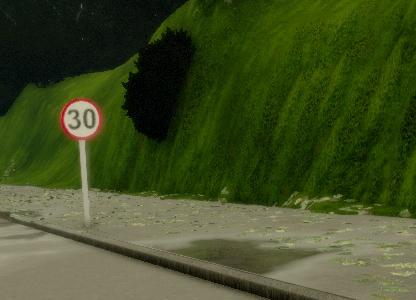Speed_30: (59, 94, 104, 142)
